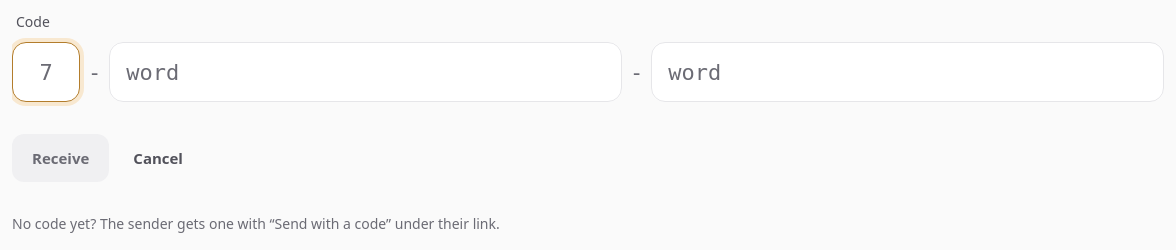
Test: EnterCode › refuses a delivered link for another site
Step 1. Type "7-acid-rocket" into the field named "Number" → (46,72), box [12,42,80,102]
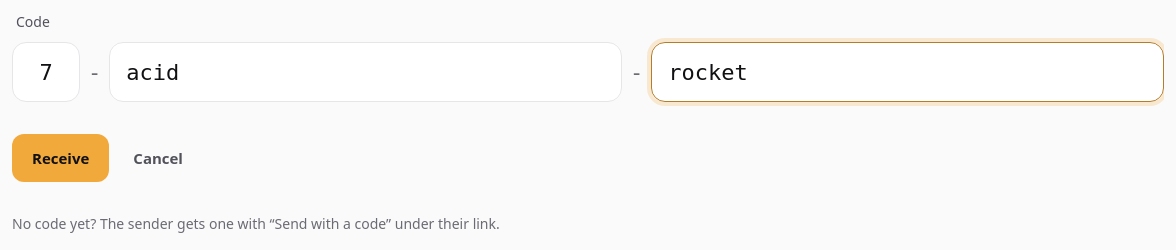
Step 2. Click the button "Receive" → (61,158), box [12,134,109,182]
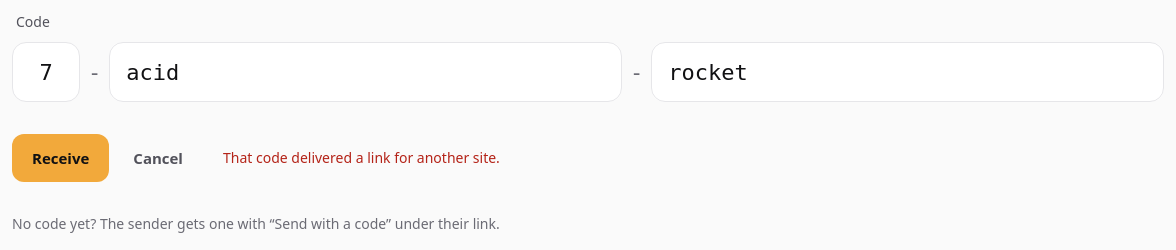
Expected: the text "That code delivered a link for another site." is shown, [223,148,500,168]
